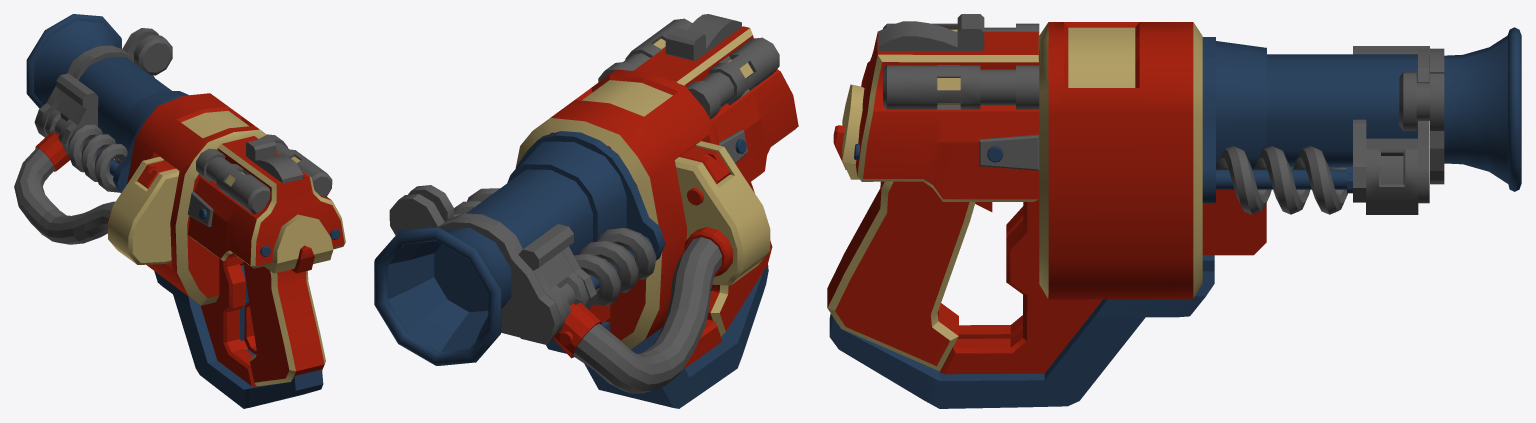
Rendered from levelend_gun.fbx.
3 views of the same model, side by side, from view 1: azimuth 30°, elevation 25°; view 2: azimuth 150°, elevation 25°; view 3: azimuth 270°, elevation 25° (orthographic). The views are drawn at different scales.
Parts seen in each view (by area): view 1: levelend_gun; view 2: levelend_gun; view 3: levelend_gun.
Boxes of the visible parts, bbox=[...] form: levelend_gun: bbox=[14, 14, 345, 408]; levelend_gun: bbox=[374, 14, 798, 408]; levelend_gun: bbox=[827, 14, 1521, 408].
Bounding box in the file's own units: 5242 × 6986 × 11957.
